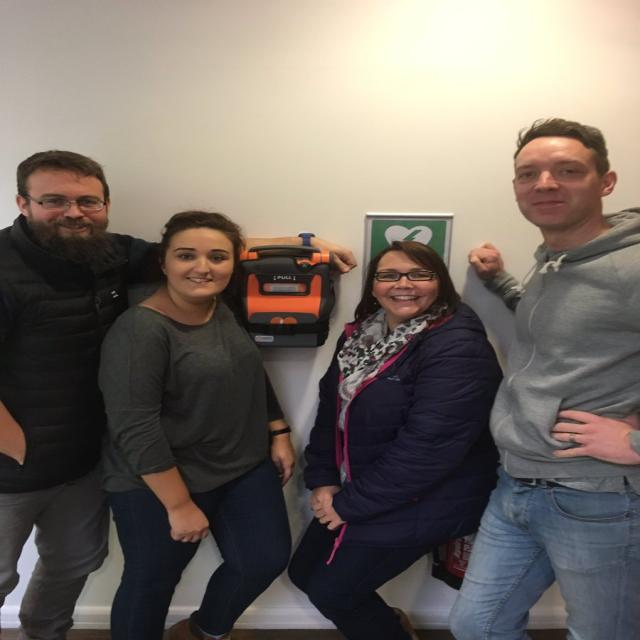body: (0, 148, 356, 639), (438, 113, 639, 640), (85, 202, 296, 640), (288, 239, 496, 640)
